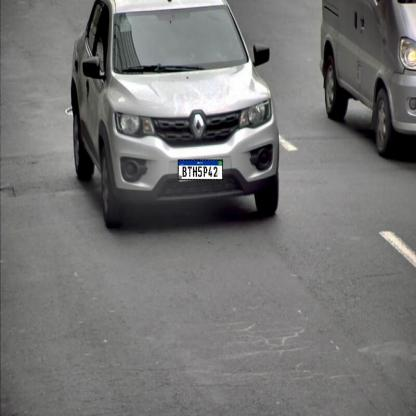PlacaM: (178, 160, 223, 180)
